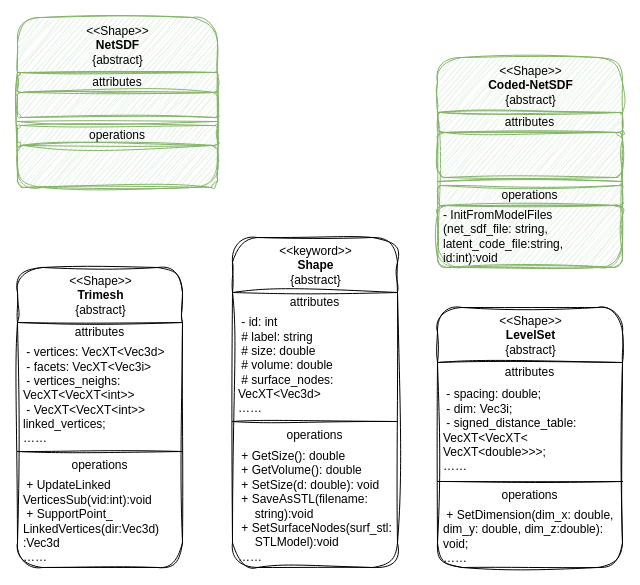
Image size: 640x585. Some labels were removed from this diagram. The shapes that lost their labels are listed below. From the top down, each one's centre as x and y in pixels, then its label:
the point at 117,105: - net_sdf_model: RegressionNet
the point at 117,166: - InitFromModelFiles (net_sdf_file: string):void
the point at 529,155: - net_sdf_model: RegressionNet - latent_code: VecXT<double>
